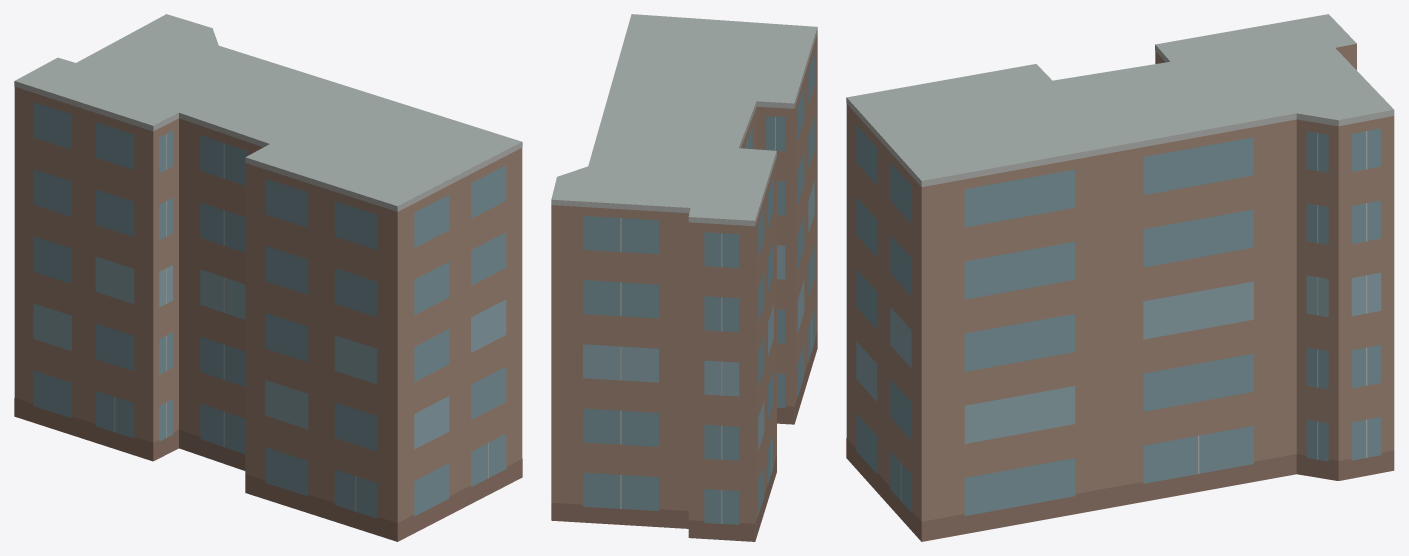
File: survey-upis-32839872.glb
The picture shows the model from 3 angles, left to right: view 1: azimuth 30°, elevation 25°; view 2: azimuth 150°, elevation 25°; view 3: azimuth 270°, elevation 25°; orthographic projection. The views are drawn at different scales.
Parts seen in each view (by area): view 1: survey-upis-32839872.tmp; view 2: survey-upis-32839872.tmp; view 3: survey-upis-32839872.tmp.
Part boxes in pixels (x1=…): survey-upis-32839872.tmp: x1=14, y1=14, x2=522, y2=541; survey-upis-32839872.tmp: x1=551, y1=14, x2=817, y2=541; survey-upis-32839872.tmp: x1=846, y1=14, x2=1394, y2=541.
Size of the model in its own units: 14.51 by 14.6 by 20.1.
